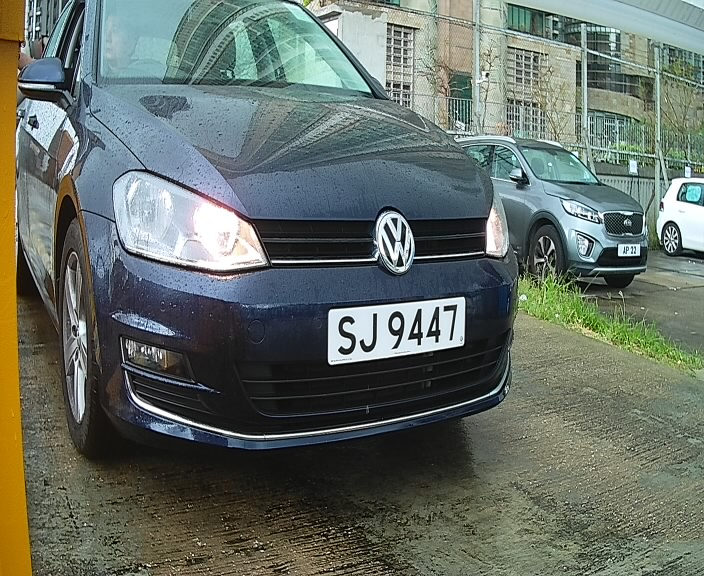Car: (21, 2, 542, 489)
License Plate: (325, 293, 470, 366)
